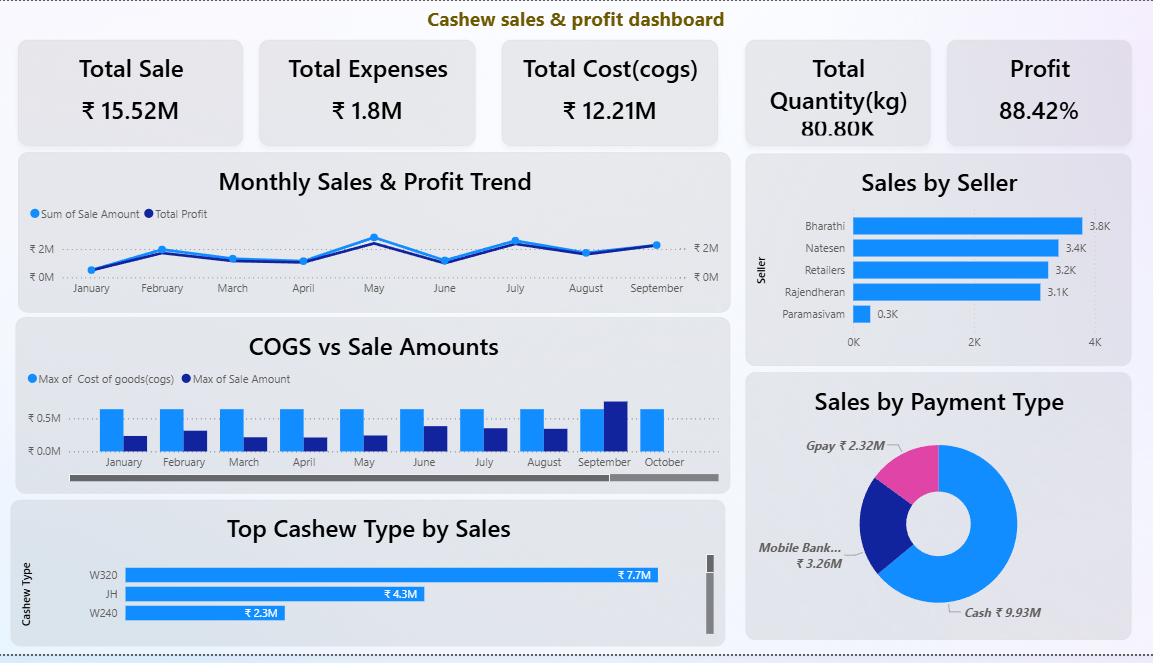

The page's visual inventory and layout, read from the dashboard file:
{"tool":"powerbi","page":{"name":"Page 1","canvas":[1280,720],"ordinal":0},"visuals":[{"type":"card","title":"Total Sale","fields":{"Values":["Sum(Sales&Expenses.Sale Amount)"]},"box":[22.1,42.7,248.1,117.1],"z":0},{"type":"card","title":"Total Expenses","fields":{"Values":["Sum(Sales&Expenses.Expenses)"]},"box":[288,42.7,238.4,117.1],"z":1000},{"type":"card","title":"Total Quantity(kg)","fields":{"Values":["Sum(Sales&Expenses.Quantity (in Kg))"]},"box":[824.1,42.7,204,117.1],"z":2000},{"type":"card","title":"Total Cost(cogs)","fields":{"Values":["Sum(cost_data. Cost of goods(cogs) )"]},"box":[555.4,42.7,238.4,117.1],"z":3000},{"type":"card","title":"Profit","fields":{"Values":["Sales&Expenses.Profit Margin %"]},"box":[1046,42.7,204,117.1],"z":4000},{"type":"lineChart","title":"Monthly Sales & Profit Trend","fields":{"Category":["Sales&Expenses.Date.Variation.Date Hierarchy.Month"],"Y":["Sum(Sales&Expenses.Sale Amount)"],"Y2":["Sales&Expenses.Total Profit"]},"box":[22.1,166.8,785.5,176.4],"z":5000},{"type":"barChart","title":"Sales by Seller","fields":{"Category":["Sales&Expenses.Seller"],"Y":["Max(Sales&Expenses.Quantity (in Kg))"]},"box":[824.1,168.1,425.8,234.3],"z":6000},{"type":"donutChart","title":"Sales by Payment Type","fields":{"Y":["Sum(Sales&Expenses.Sale Amount)"],"Category":["Sales&Expenses.Payment Type"]},"box":[824.1,409.3,425.8,294.9],"z":7000},{"type":"clusteredColumnChart","title":"COGS vs Sale Amounts ","fields":{"Category":["Sales&Expenses.Date.Variation.Date Hierarchy.Month"],"Y":["Max(cost_data. Cost of goods(cogs) )","Max(Sales&Expenses.Sale Amount)"]},"box":[19.3,348.7,788.3,194.3],"z":8000},{"type":"barChart","title":"Top Cashew Type by Sales","fields":{"Category":["Sales&Expenses.Cashew Type"],"Y":["Sum(Sales&Expenses.Sale Amount)"]},"box":[13.8,549.9,788.3,161.2],"z":9000},{"type":"textbox","box":[0,0,1280.3,42.7],"z":9001}]}

Visuals, with their boxes in screenshot pixels (x1, y1, x2, y2), scaled from the page's 1280x720 canvas onto the 1153x663 screenshot:
"Total Sale" card: 20 39 243 147
"Total Expenses" card: 259 39 474 147
"Total Quantity(kg)" card: 742 39 926 147
"Total Cost(cogs)" card: 500 39 715 147
"Profit" card: 942 39 1126 147
"Monthly Sales & Profit Trend" lineChart: 20 154 727 316
"Sales by Seller" barChart: 742 155 1126 371
"Sales by Payment Type" donutChart: 742 377 1126 648
"COGS vs Sale Amounts " clusteredColumnChart: 17 321 727 500
"Top Cashew Type by Sales" barChart: 12 506 723 655
textbox: 0 0 1152 39
